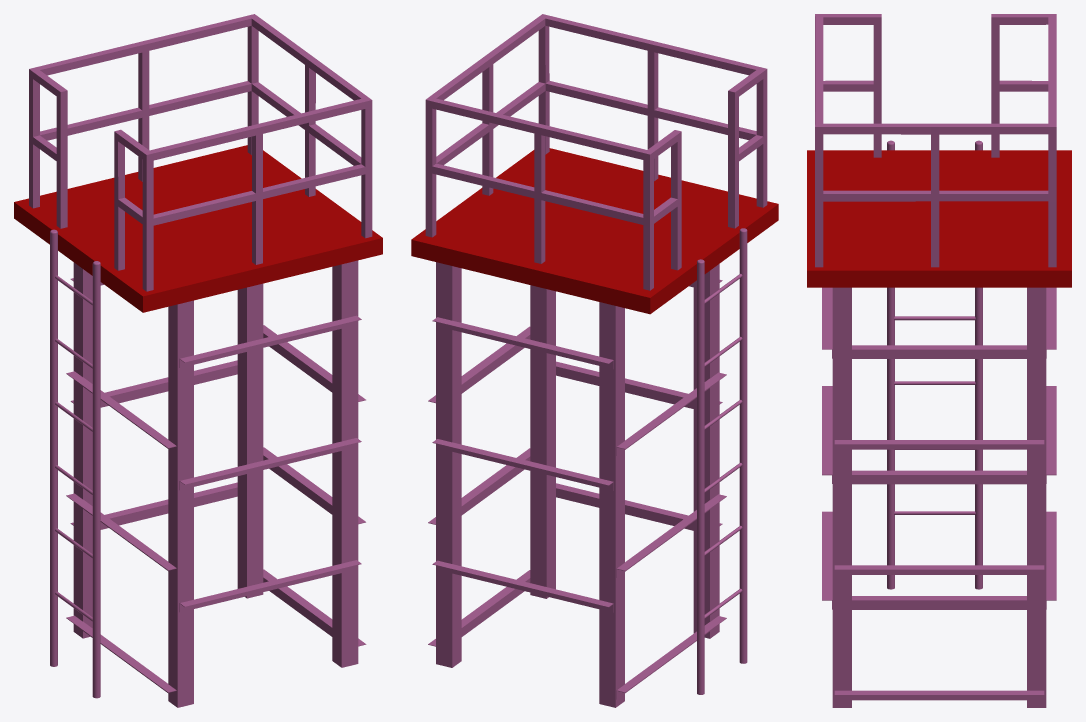
Rendered from Oveservatory_redwhite.fbx.
The picture shows the model from 3 angles, left to right: view 1: azimuth 30°, elevation 25°; view 2: azimuth 150°, elevation 25°; view 3: azimuth 270°, elevation 25°; orthographic projection. The views are drawn at different scales.
Parts seen in each view (by area): view 1: pCube35; view 2: pCube35; view 3: pCube35.
Part boxes in pixels (x1=…): pCube35: x1=14, y1=14, x2=382, y2=707; pCube35: x1=411, y1=14, x2=778, y2=707; pCube35: x1=807, y1=14, x2=1071, y2=707.
Size of the model in its own units: 152 by 331 by 136.
